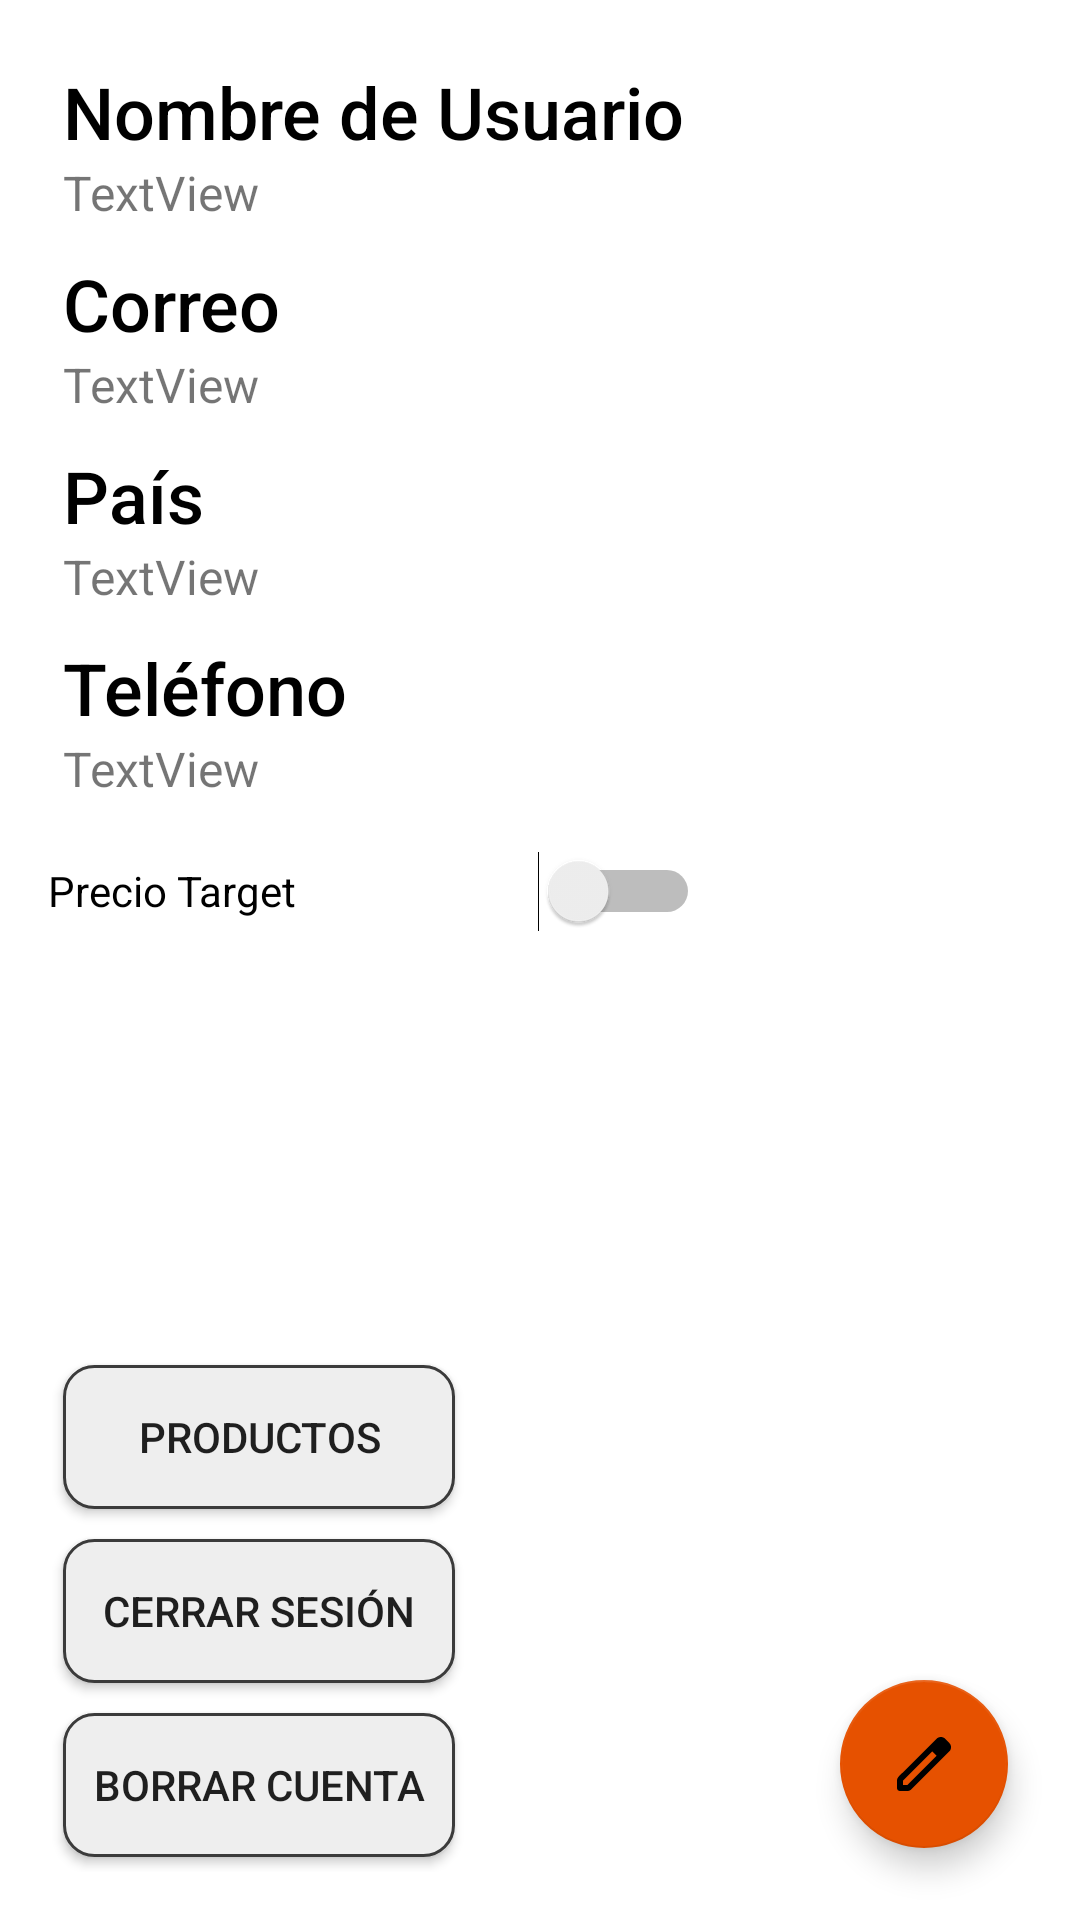

Screen size 1080w x 1920h. Icon name, then its center in pixels as (x,y):
edit: (924,1764)
